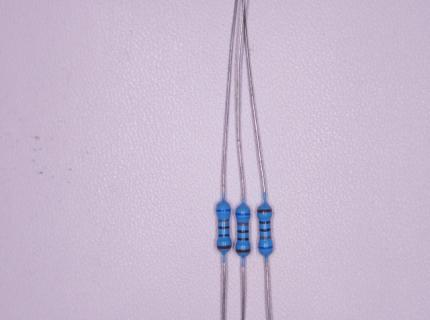Black band: (237, 229, 249, 233), (237, 237, 249, 241), (259, 220, 270, 224), (260, 228, 271, 232), (218, 234, 230, 237), (219, 226, 230, 229)
Blue band: (258, 245, 273, 250), (215, 208, 230, 212), (235, 212, 250, 216)
Brown band: (256, 208, 272, 213), (217, 245, 232, 249), (235, 249, 250, 253)
Grey band: (260, 235, 272, 240), (218, 218, 230, 223), (237, 221, 248, 226)
